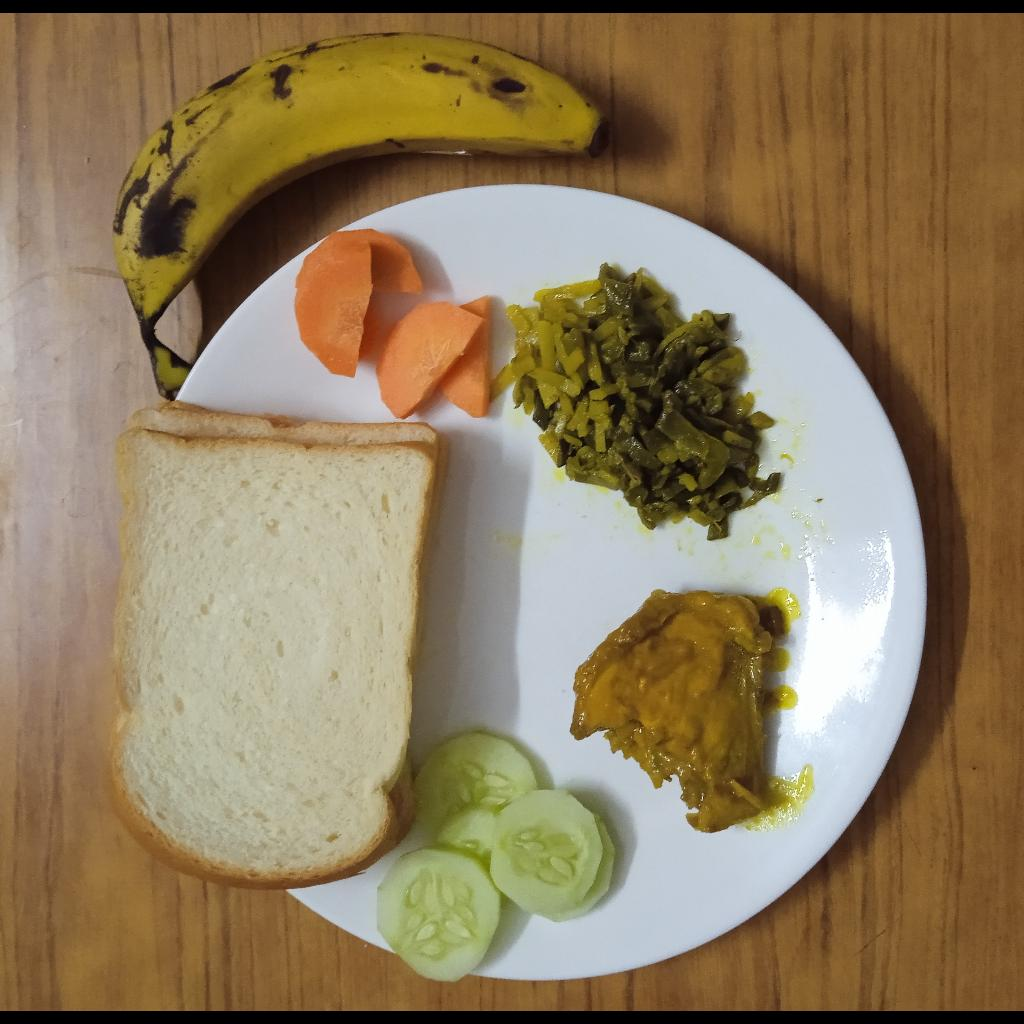banana: (110, 33, 608, 403)
bread: (105, 401, 452, 890)
carrot: (293, 227, 490, 421)
chicken: (569, 589, 785, 834)
cucumber: (377, 731, 615, 983)
vegetable: (490, 263, 785, 542)
